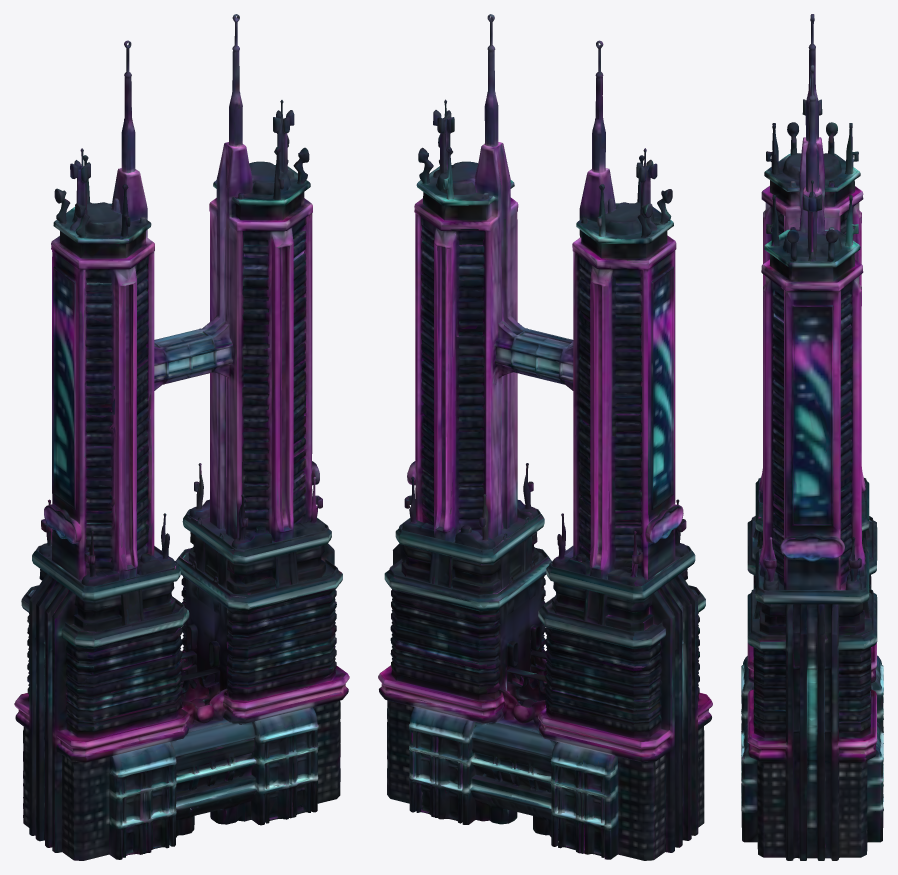
File: tower-b.glb
3 views of the same model, side by side, from view 1: azimuth 30°, elevation 25°; view 2: azimuth 150°, elevation 25°; view 3: azimuth 270°, elevation 25° (orthographic). The views are drawn at different scales.
Parts seen in each view (by area): view 1: material; view 2: material; view 3: material.
Part boxes in pixels (x1,y1,x2,y2): material: (14,14,349,860); material: (378,14,712,860); material: (741,14,883,860).
Bounding box in the file's own units: 0.4226 × 1.12 × 0.1925.
1 material, 1 textured.
